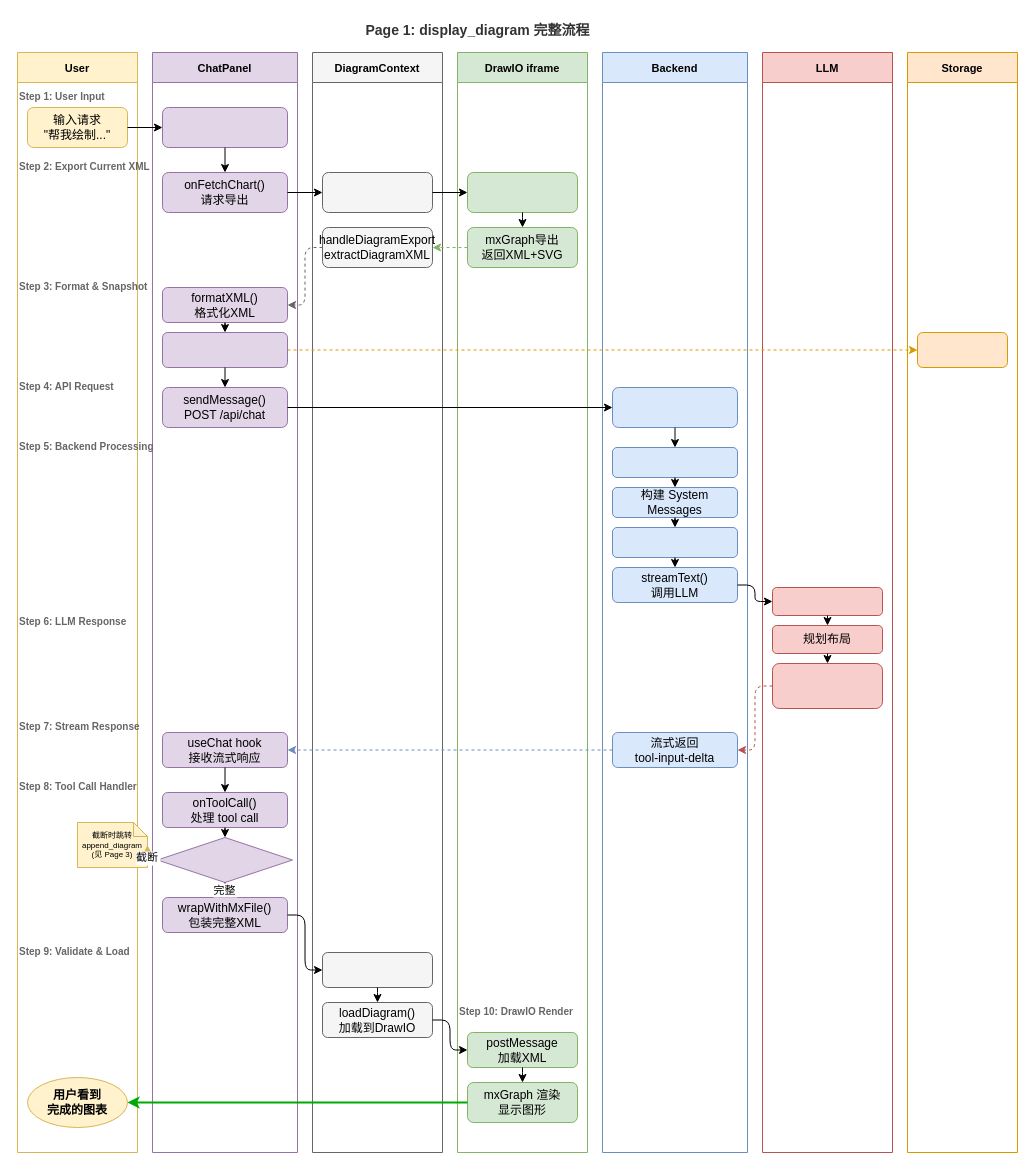
Some shapes in this 1035 by 1170 pixel diagram are drawn without their labels. The shapes that lost their labels are listed below. From the top down, each one's centre as x and y in pixels, then its label:
point 225,127: ChatInput 接收输入
point 377,192: handleExport() drawioRef.export
point 522,192: exportDiagram postMessage
point 225,350: xmlSnapshotsRef 保存快照(内存)
point 962,350: localStorage 持久化快照
point 675,407: route.ts 接收请求
point 675,462: 验证 access code
point 675,542: 定义 Tools
point 827,601: 理解意图
point 827,685: 生成 mxCell XML tool: display_diagram
point 224,859: isMxCellXmlComplete 检查截断
point 377,970: validateAndFixXml() 验证并修复
